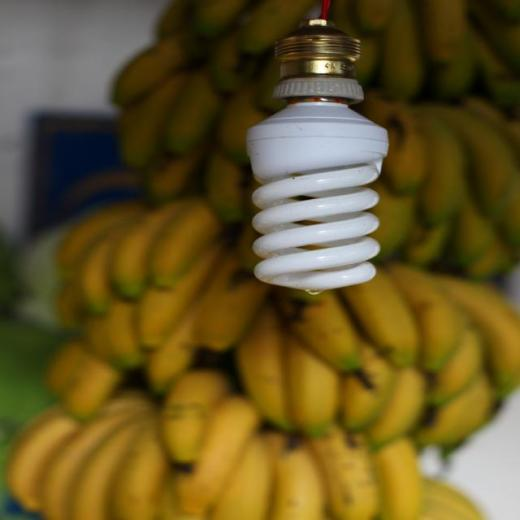Banana: (14, 59, 518, 481)
